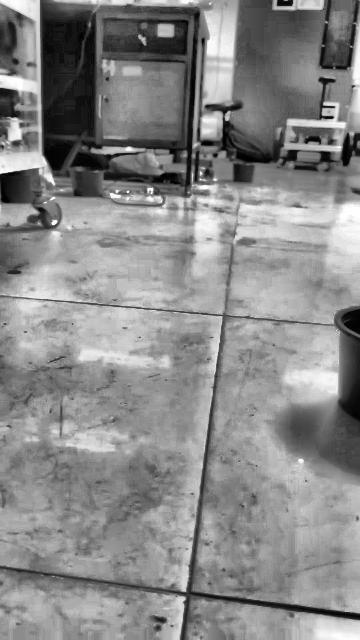pot: (335, 307, 359, 421)
